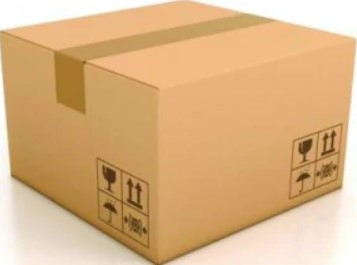stock: (1, 2, 355, 265)
